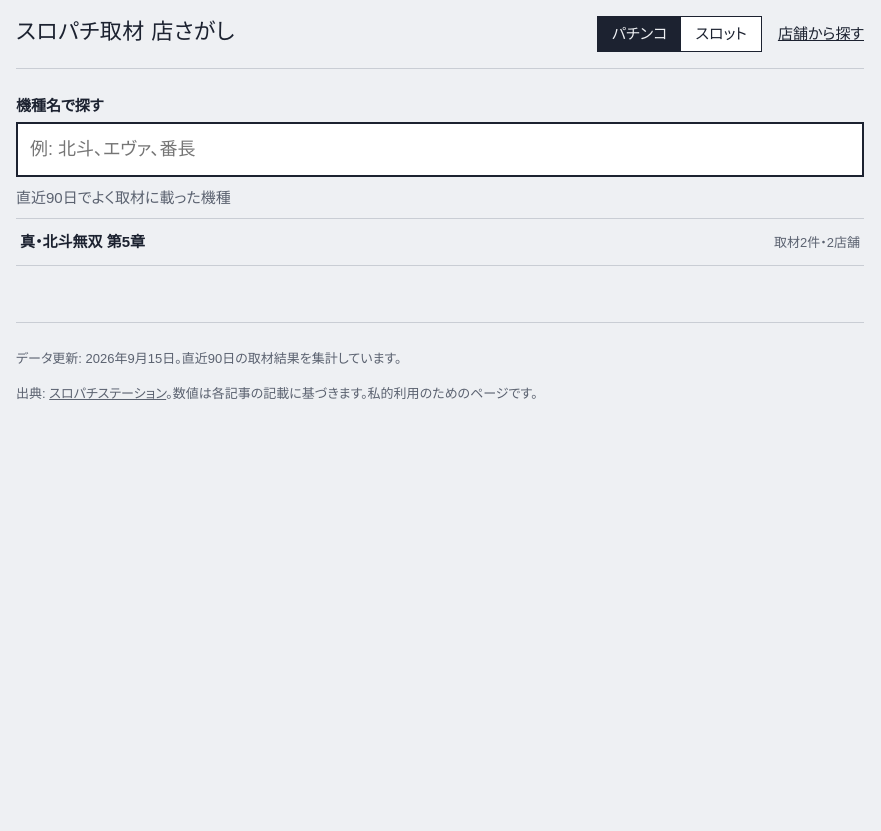
Test: App › 読み込み後、上位機種が出て、選ぶと店舗一覧と URL が更新される
The width and height of the screenshot is (881, 831).
Click the option "真・北斗無双 第5章 取材2件・2店舗". click: (83, 242)
box: [16,219,864,266]
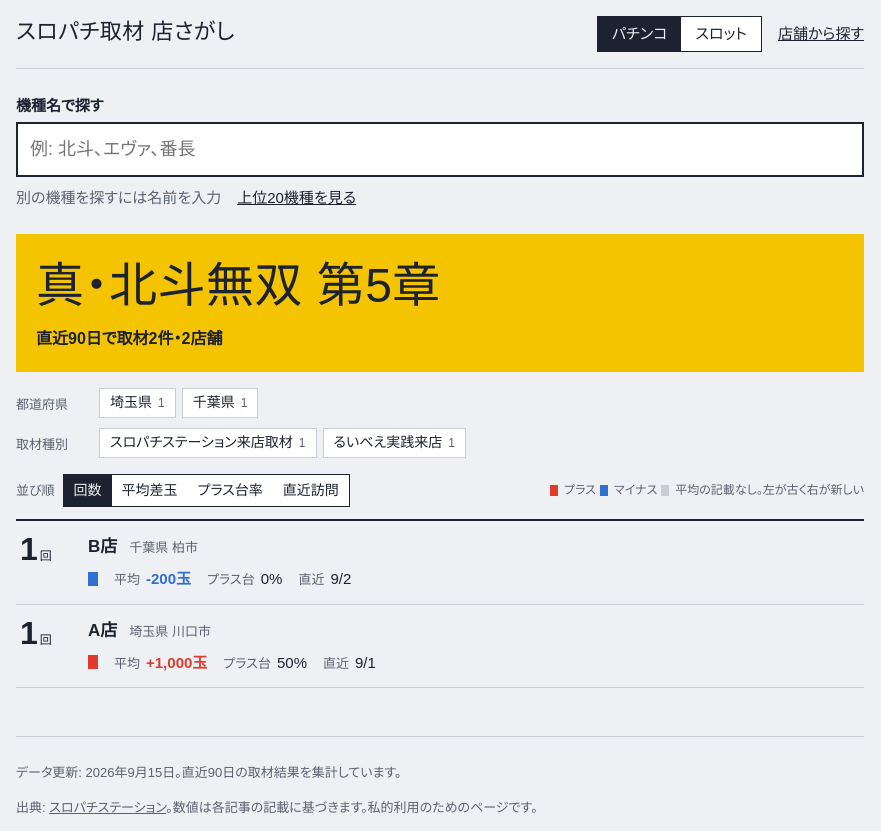
Expected: the heading "真・北斗無双 第5章" is shown, [36,259,441,312]
Now the number of list items is 2, box [16,522,864,605]; [16,605,864,688]
